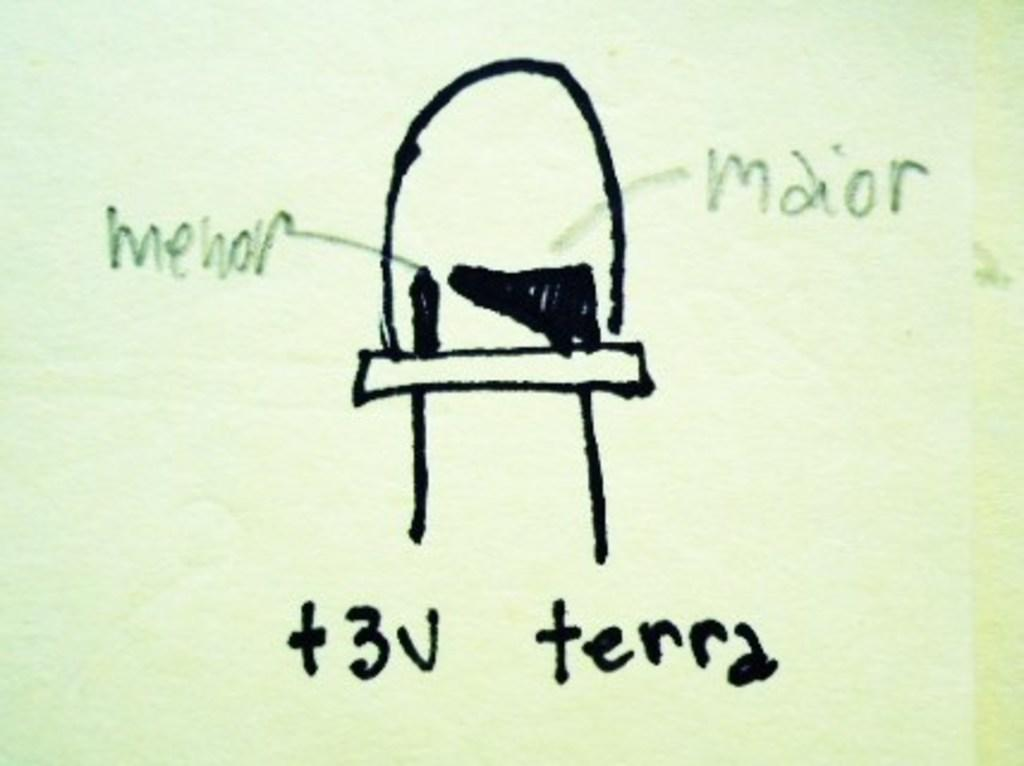Chair: (306, 14, 653, 565)
